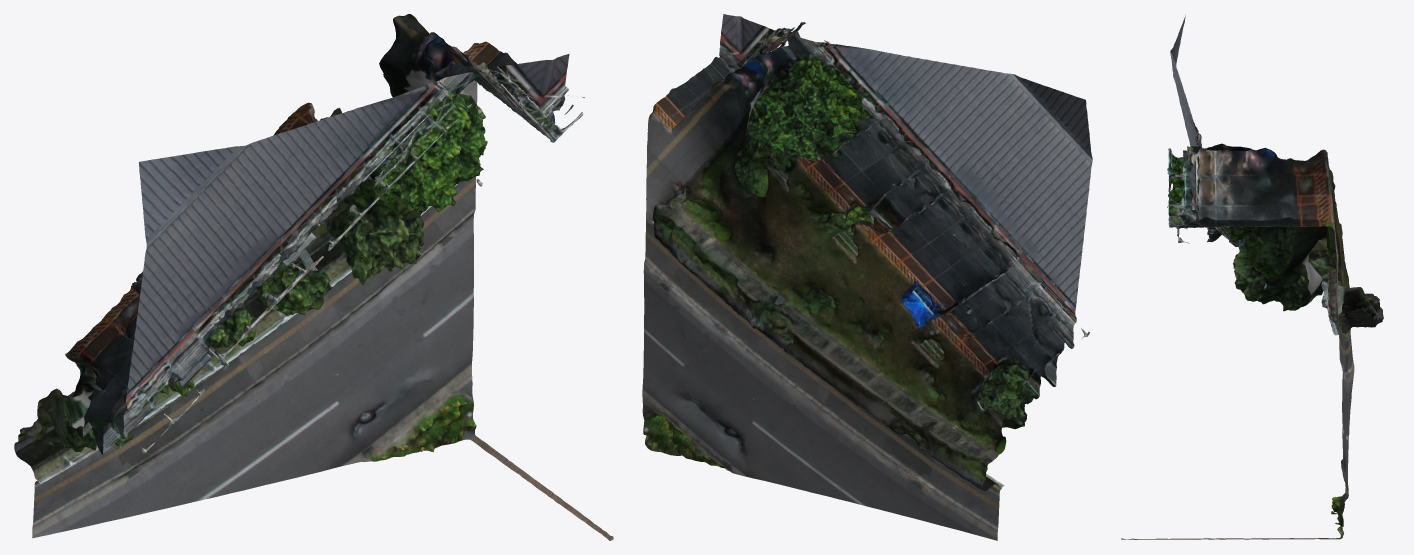
The model's file is Tile_+009_+010.fbx.
3 views of the same model, side by side, from view 1: azimuth 30°, elevation 25°; view 2: azimuth 150°, elevation 25°; view 3: azimuth 270°, elevation 25° (orthographic). The views are drawn at different scales.
Visible parts, largest first — view 1: DefaultName; view 2: DefaultName; view 3: DefaultName.
Boxes of the visible parts, <box> form: DefaultName: <box>14,14,613,540</box>; DefaultName: <box>642,14,1092,540</box>; DefaultName: <box>1121,15,1383,539</box>.
Size of the model in its own units: 22.54 by 22.54 by 15.84.
